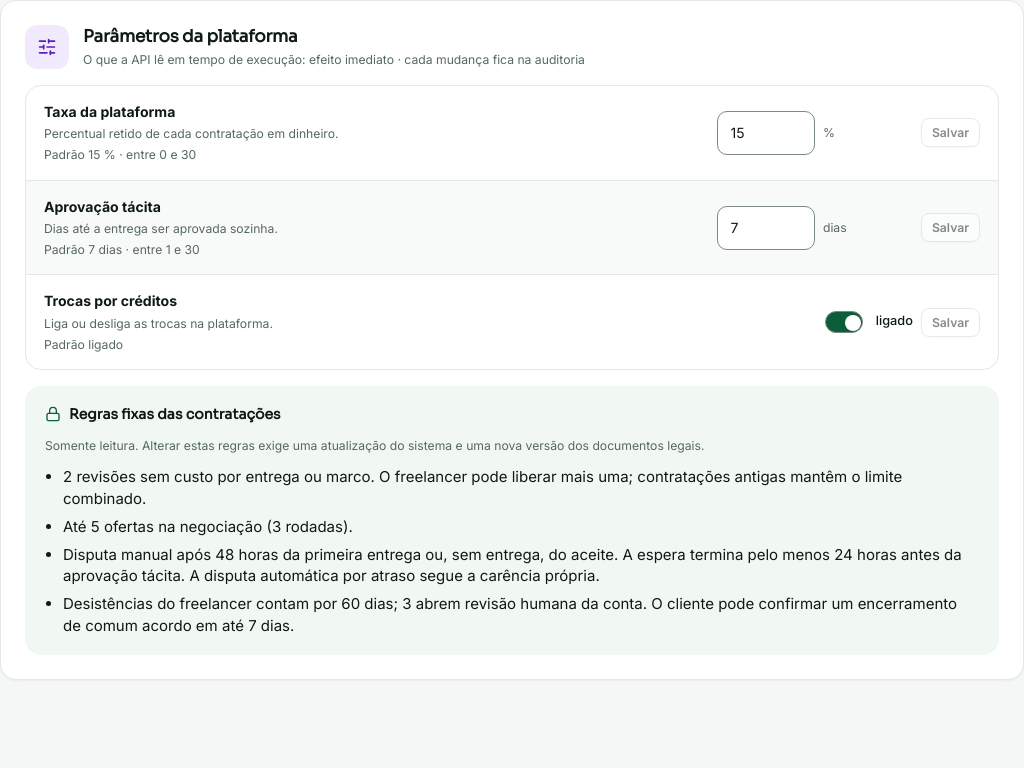
Test case: SettingsSection › depois de salvar, as outras linhas acompanham os valores recarregados da API
Expected: the switch named "Trocas por créditos" is checked, [825,311,863,333]
Replace the text in the number field named "Aprovação tácita" with "9" at [766, 228], box [717,206,815,250]
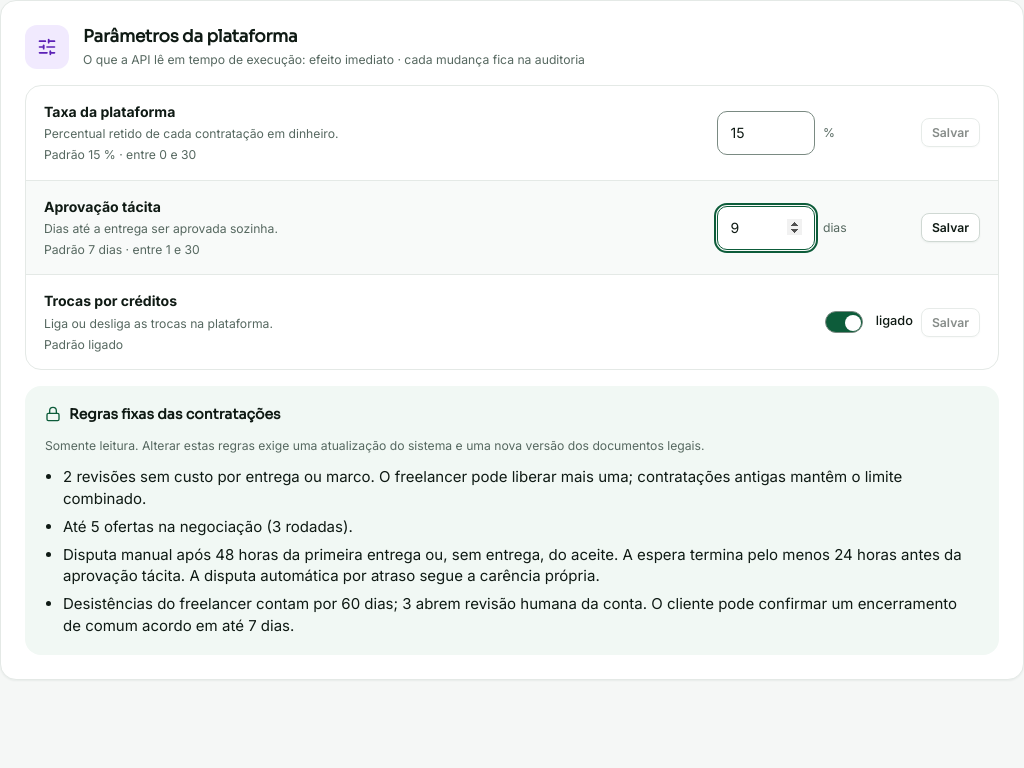
Click the button "Salvar" in the row of "Dias até a entrega ser aprovada sozinha." at [950, 228], box [921,213,980,242]
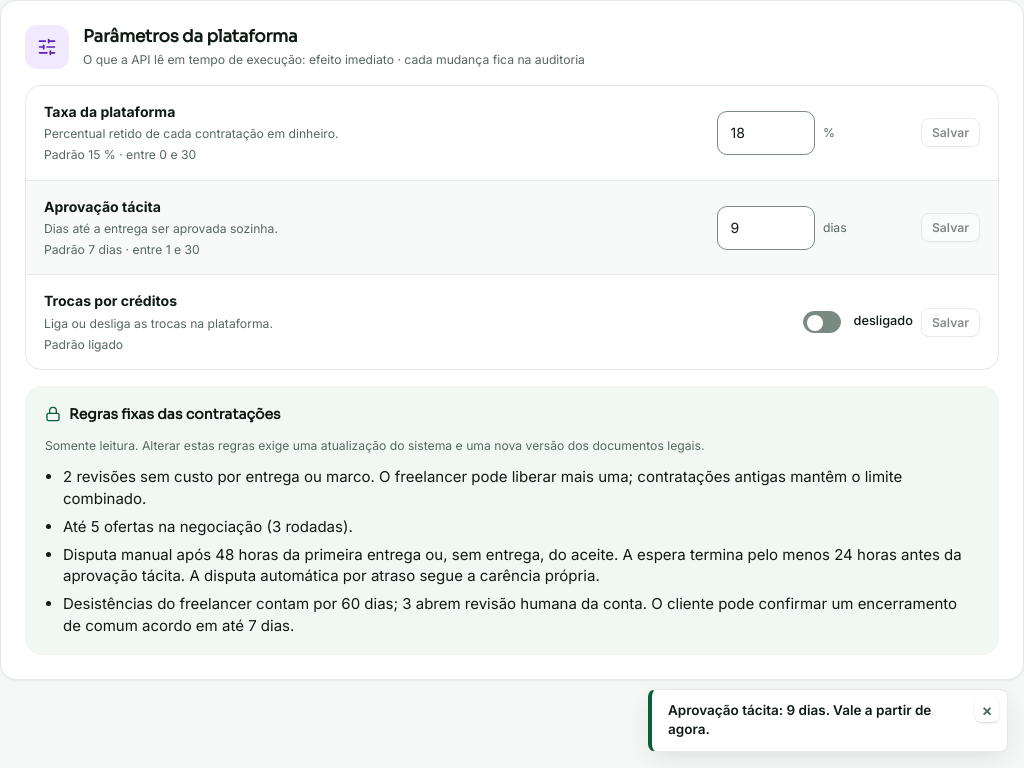
Expected: the number field named "Taxa da plataforma" holds "18", [717,111,815,155]
Expected: the switch named "Trocas por créditos" is not checked, [802,311,840,333]
